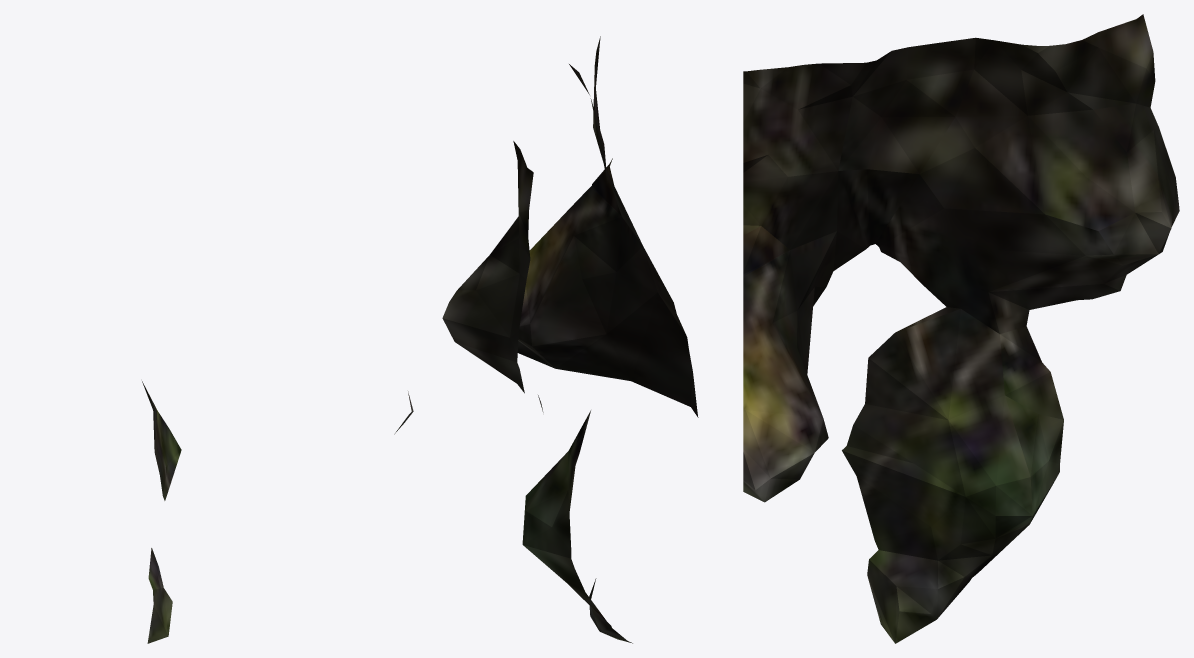
3 views of the same model, side by side, from view 1: azimuth 30°, elevation 25°; view 2: azimuth 150°, elevation 25°; view 3: azimuth 270°, elevation 25° (orthographic). The views are drawn at different scales.
Bounding box in the file's own units: 0.176 × 0.4386 × 0.282.
1 material, 1 textured.
